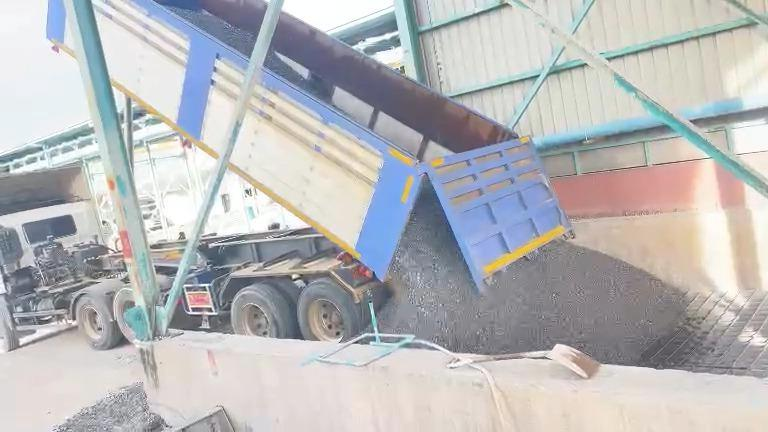gravel: (379, 187, 686, 363), (54, 383, 164, 431)
